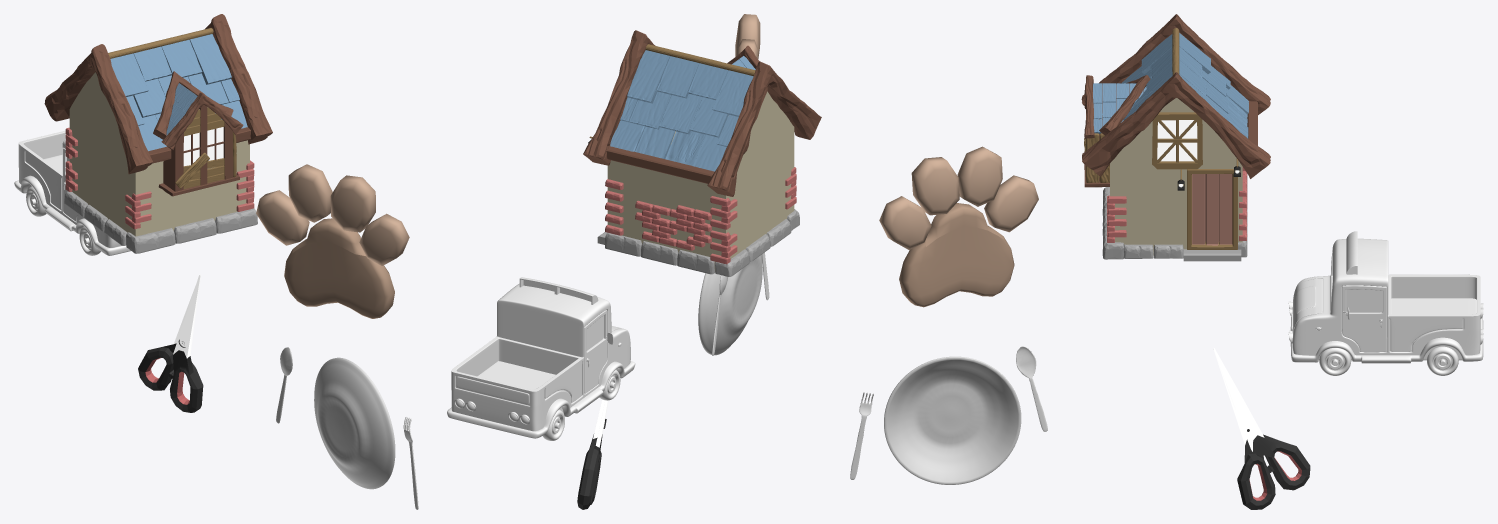
Rendered from wheel.glb.
3 views of the same model, side by side, from view 1: azimuth 30°, elevation 25°; view 2: azimuth 150°, elevation 25°; view 3: azimuth 270°, elevation 25° (orthographic). The views are drawn at different scales.
Visible parts, largest first — view 1: group7, Plane.007, Bowl, Cube_Cube.001, Plane.070, Stones, pCylinder2, Plane.043, Bricks, Plane.075, Plane.048, Plane.098 (+11 smaller); view 2: Cube_Cube.001, Plane.007, Bricks, Plane.070, Bowl, Stones, Plane.043, Cube.001, pCylinder2, Plane.048, Plane.047, Plane.045 (+10 smaller); view 3: Cube_Cube.001, group7, Bowl, Plane.007, Plane.043, pCylinder2, Plane.044, Plane.070, Stones, Plane.002, Bricks, Plane.146 (+4 smaller).
Boxes of the visible parts, x1,y1,x2,y2 form: group7: (256,164,409,318); Plane.007: (69,72,249,236); Bowl: (314,357,395,489); Cube_Cube.001: (14,130,130,255); Plane.070: (44,44,153,174); Stones: (64,191,257,253); pCylinder2: (138,274,203,412); Plane.043: (205,14,272,144); Bricks: (65,127,254,229); Plane.075: (163,104,233,191); Plane.048: (190,34,231,84); Plane.098: (161,92,243,149); Cube_Cube.001: (447,277,635,440); Plane.007: (607,91,794,271); Bricks: (605,167,796,264); Plane.070: (707,61,821,196); Bowl: (698,254,762,355); Stones: (597,209,799,276); Plane.043: (583,30,655,165); Cube.001: (606,146,714,183); pCylinder2: (577,399,608,509); Plane.048: (627,50,669,103); Plane.047: (657,56,699,98); Plane.045: (712,70,753,116); Cube_Cube.001: (1288,231,1483,375); group7: (879,146,1038,307); Bowl: (884,356,1021,484); Plane.007: (1110,98,1242,255); Plane.043: (1082,72,1270,178); pCylinder2: (1213,348,1310,509); Plane.044: (1187,169,1237,249); Plane.070: (1081,14,1270,114); Stones: (1102,187,1247,261); Plane.002: (1152,112,1202,169); Bricks: (1107,167,1247,242); Plane.146: (1157,120,1197,161).
Size of what is drawn, in the model's own units: 3.49 by 8.16 by 10.85.
